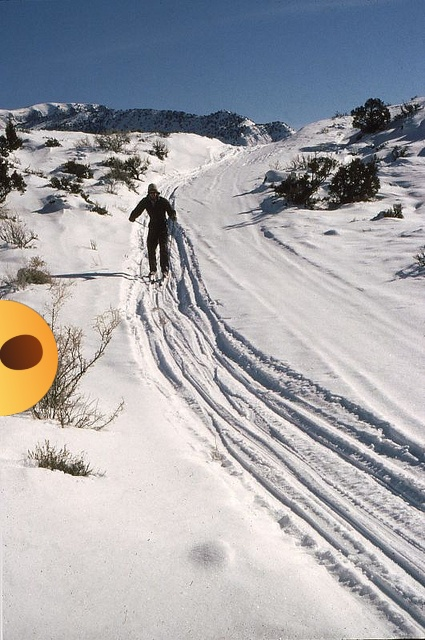wow: (0, 300, 58, 416)
